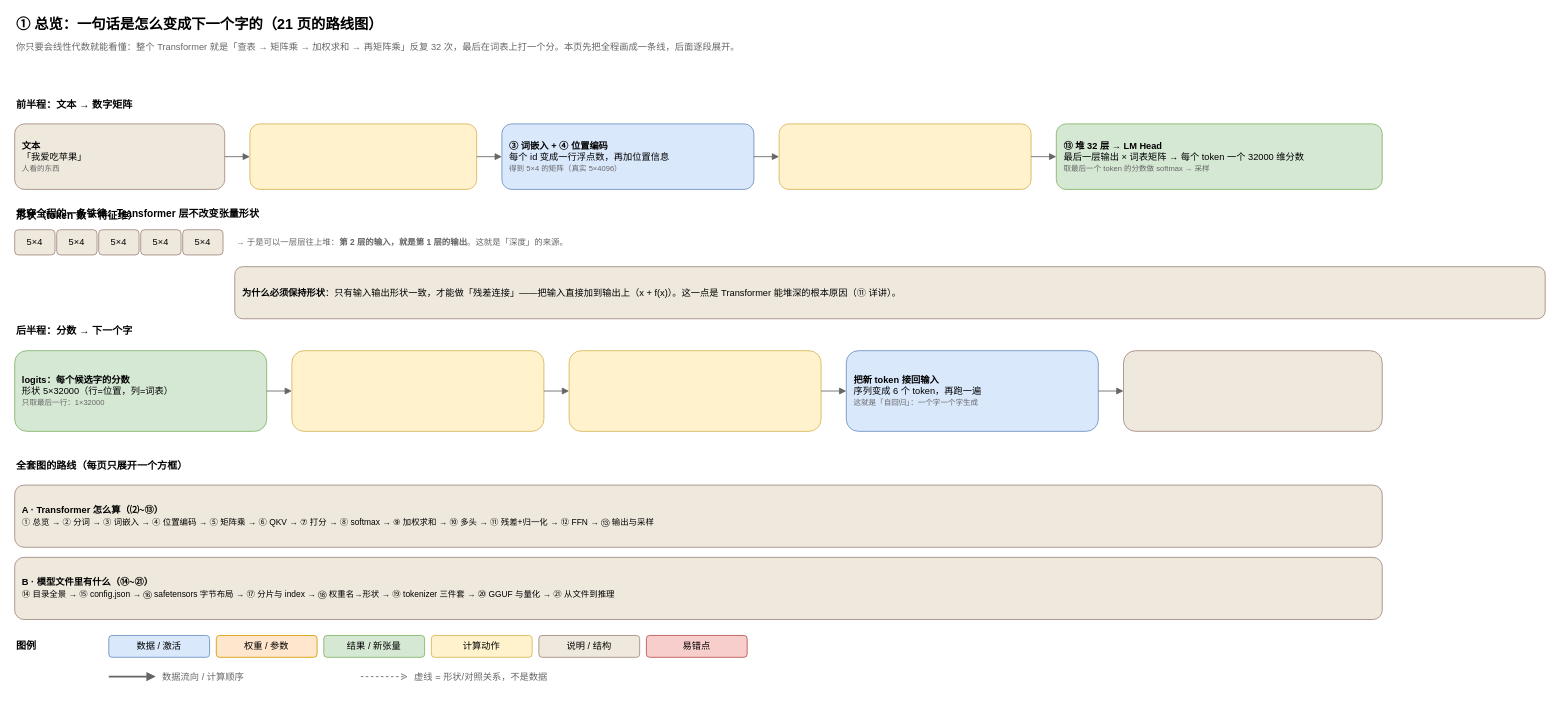
This 1560x701 diagram has some shape labels left out. The shapes that lost their labels are listed below. From the top down, each one's centre as x and y in pixels, then its label:
the point at 363,156: ② 分词 tokenizer 切成 5 个 token，每个换成整数 id 词表里第几号
the point at 904,156: ⑤~⑫ 一层 Transformer 注意力（⑥~⑩）+ 残差/RMSNorm（⑪）+ FFN（⑫） 形状不变：进去 5×4，出来还是 5×4
the point at 417,390: softmax → 概率 把分数变成「加起来等于 1」的概率 温度 T 控制锐利程度（⑬）
the point at 694,390: 采样：掷一次骰子 按概率抽一个 token（top-p 先砍掉长尾） 贪心 = 永远选最大
the point at 1252,390: 为什么叫「自」回归 模型的输出，变成它下一步的输入；整段对话就是这一个循环转几百次。
